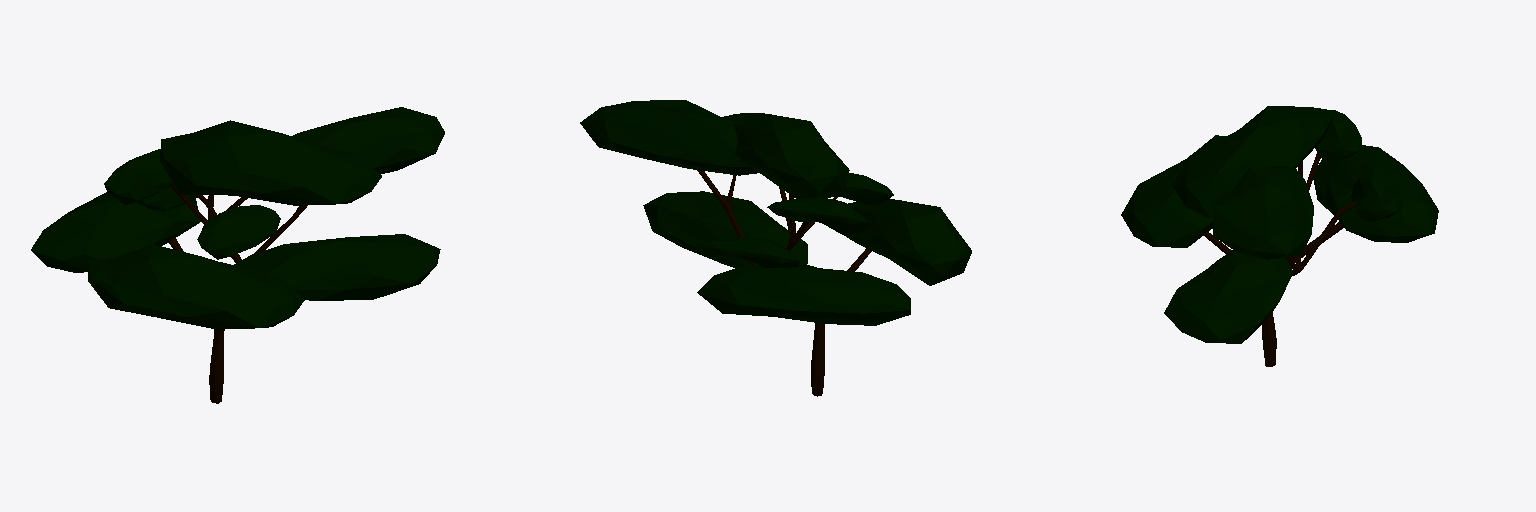
The model's file is M_acacia.obj.
3 renders of one model, left to right at view 1: azimuth 30°, elevation 25°; view 2: azimuth 150°, elevation 25°; view 3: azimuth 270°, elevation 25°, orthographic.
Visible parts, largest first — view 1: boom; view 2: boom; view 3: boom.
Part boxes in pixels (left/top/right/bottom): boom: left=31, top=107, right=444, bottom=403; boom: left=580, top=100, right=971, bottom=396; boom: left=1121, top=106, right=1438, bottom=366.
Size of the model in its own units: 14.6 by 10.07 by 10.9.